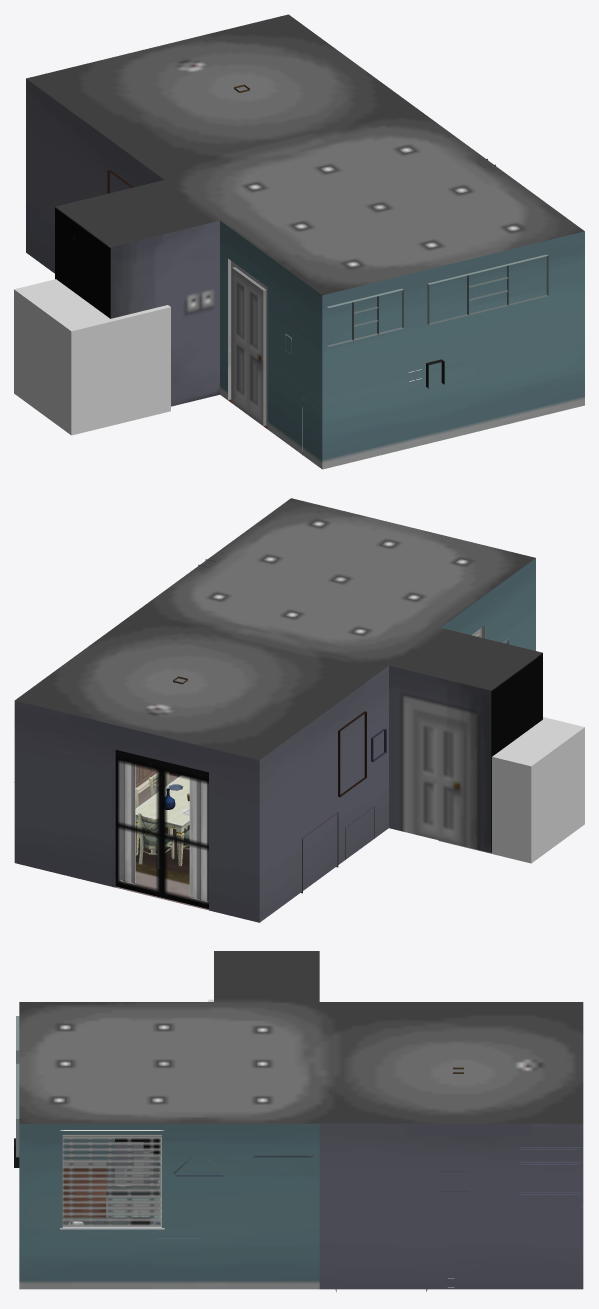
Rendered from room.gltf.
3 views of the same model, one above another, from view 1: azimuth 30°, elevation 25°; view 2: azimuth 150°, elevation 25°; view 3: azimuth 270°, elevation 25° (orthographic). The views are drawn at different scales.
Parts seen in each view (by area): view 1: Room, Cube.001, Furniture; view 2: Room, Cube.001, Furniture, Items1; view 3: Room, Items1, Furniture, Cube.
Boxes of the visible parts, x1,y1,x2,y2 form: Room: (26,14,584,469); Cube.001: (14,279,170,435); Furniture: (107,84,548,455); Room: (14,498,542,922); Cube.001: (438,717,584,863); Furniture: (14,559,386,901); Items1: (115,639,508,908); Room: (19,951,583,1289); Items1: (14,1130,164,1229); Furniture: (16,1016,582,1292); Cube: (115,1138,160,1224).
Bounding box in the file's own units: 6.02 × 2.5 × 7.47.
9 materials, 8 textured.
